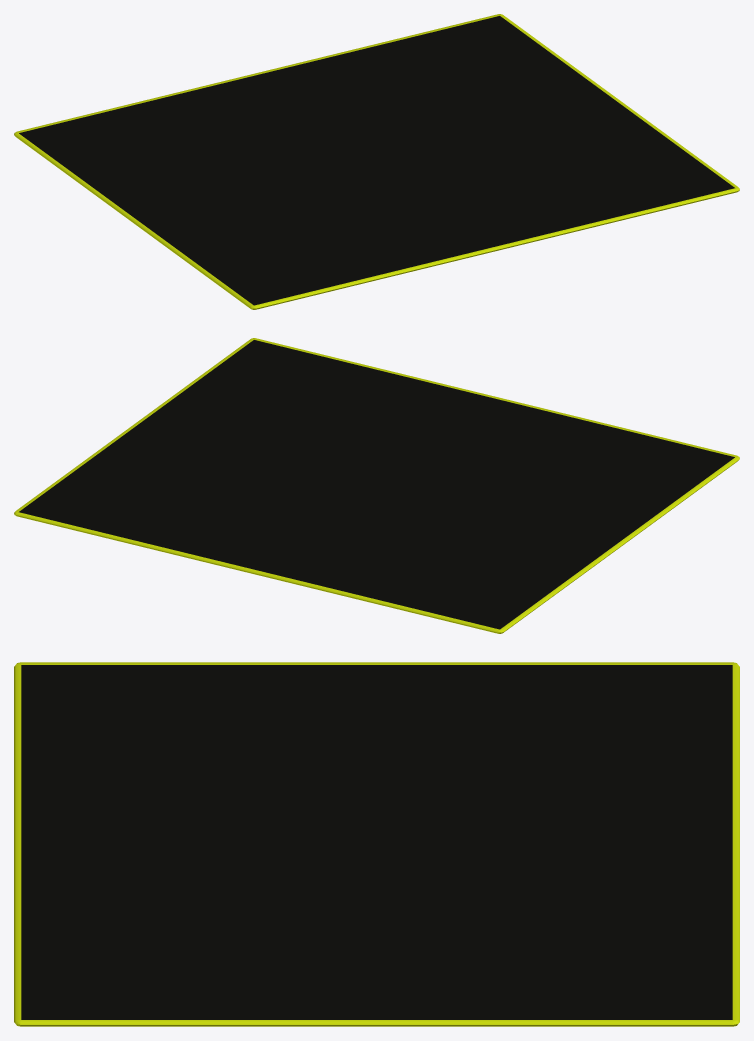
File: SM_Carpet.fbx
The picture shows the model from 3 angles, top to bottom: view 1: azimuth 30°, elevation 25°; view 2: azimuth 150°, elevation 25°; view 3: azimuth 270°, elevation 25°; orthographic projection. The views are drawn at different scales.
Parts seen in each view (by area): view 1: pCube1; view 2: pCube1; view 3: pCube1.
Part boxes in pixels (<box>): pCube1: <box>14,14,739,309</box>; pCube1: <box>14,338,739,633</box>; pCube1: <box>14,662,739,1026</box>.
Bounding box in the file's own units: 224 × 1.81 × 190.
